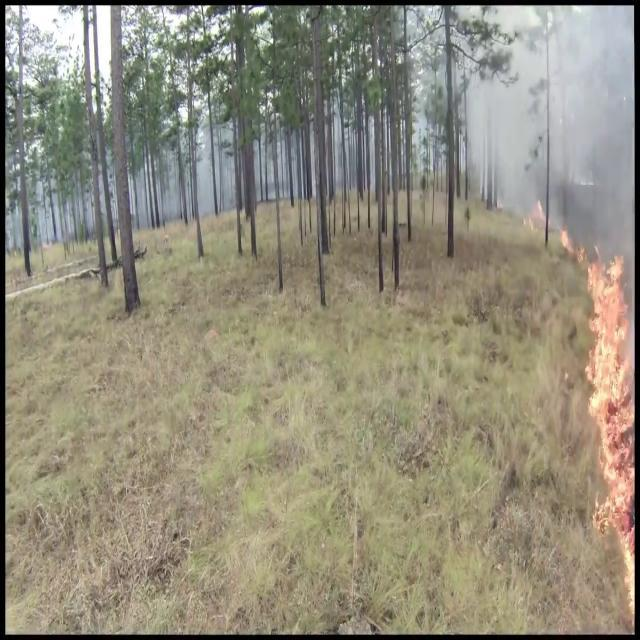Fire: (575, 238, 635, 614)
Smoke: (475, 5, 635, 262)
